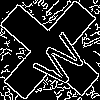W: (25, 25, 90, 91)
